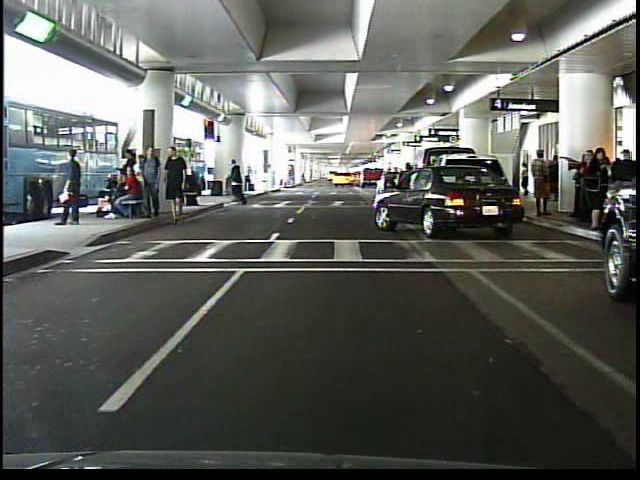person: (59, 144, 91, 234), (531, 149, 553, 217), (228, 159, 253, 206), (522, 161, 532, 196)
